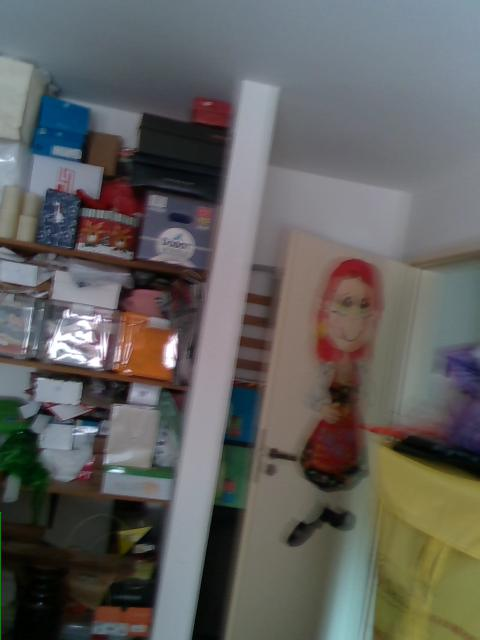door: (227, 229, 422, 640)
